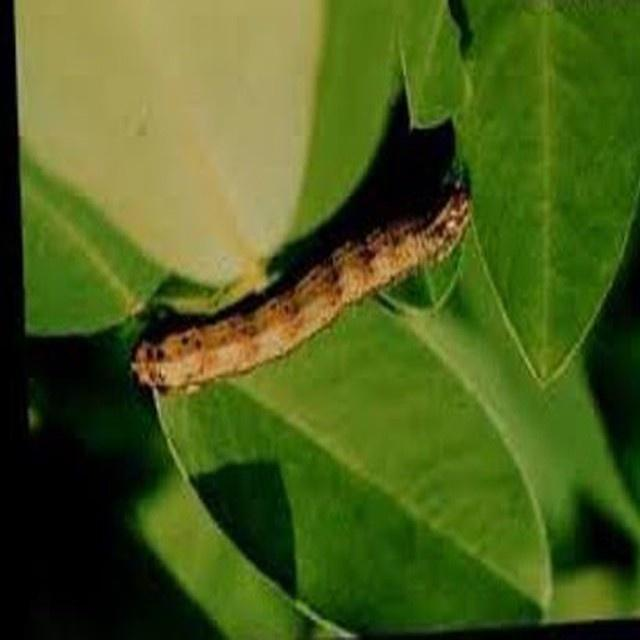gusano_cogollero: (133, 178, 470, 392)
